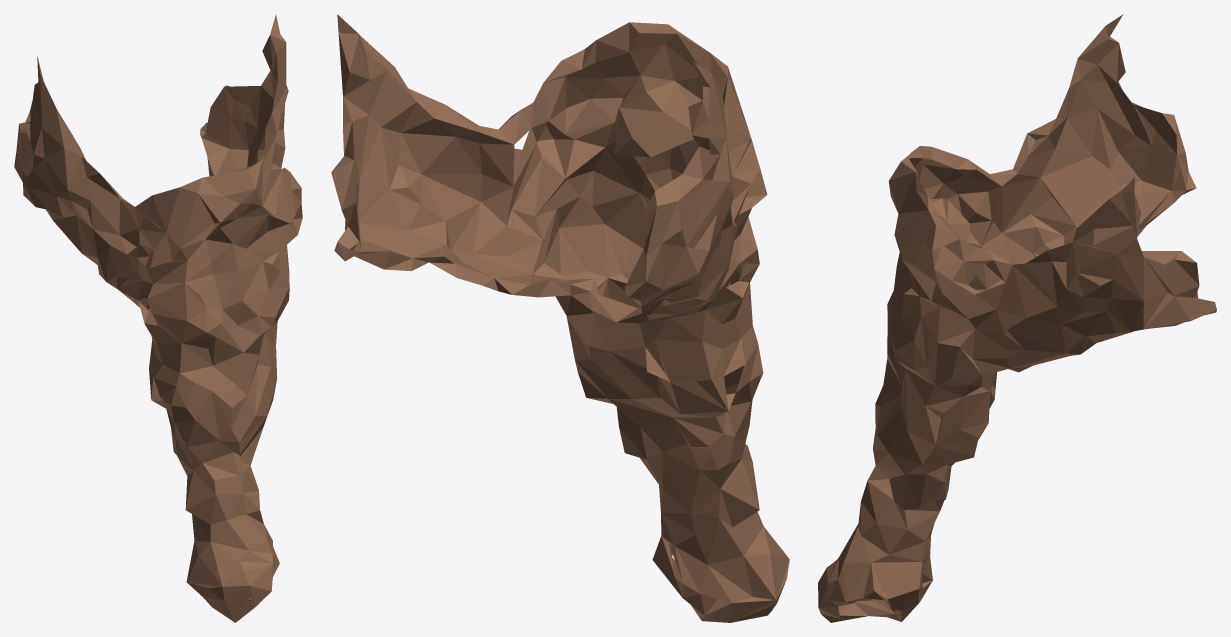
Rendered from Beard_braid_LOD0.glb.
3 renders of one model, left to right at view 1: azimuth 30°, elevation 25°; view 2: azimuth 150°, elevation 25°; view 3: azimuth 270°, elevation 25°, orthographic. The views are drawn at different scales.
Visible parts, largest first — view 1: Beard_braid_LOD0; view 2: Beard_braid_LOD0; view 3: Beard_braid_LOD0.
Boxes of the visible parts, x1,y1,x2,y2 form: Beard_braid_LOD0: (14,14,302,622); Beard_braid_LOD0: (331,14,789,622); Beard_braid_LOD0: (818,14,1216,622).
Bounding box in the file's own units: 0.1502 × 0.2725 × 0.1732.
